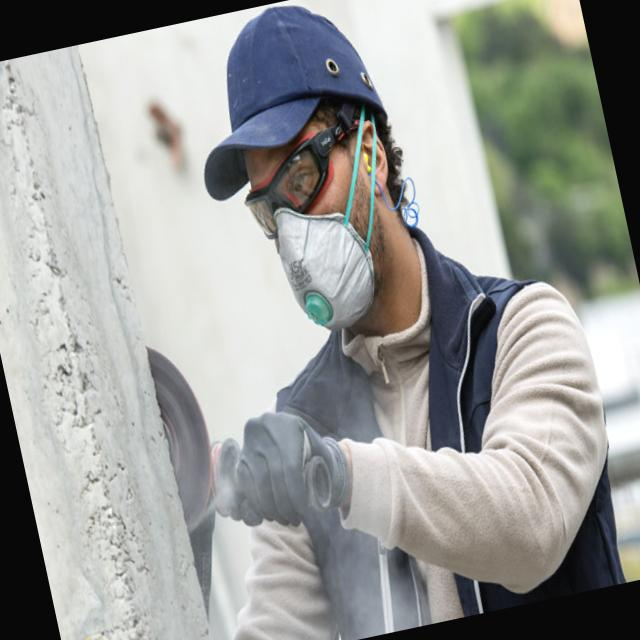goggles: (232, 123, 354, 239)
no-helmet: (181, 0, 408, 205)
no-vest: (280, 264, 598, 640)
